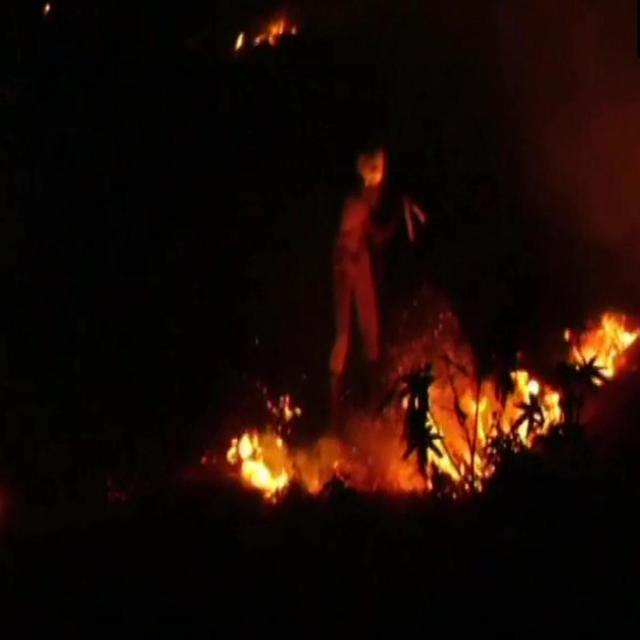Fire: (416, 358, 561, 493), (223, 370, 301, 503), (569, 309, 628, 387), (252, 19, 295, 49)
